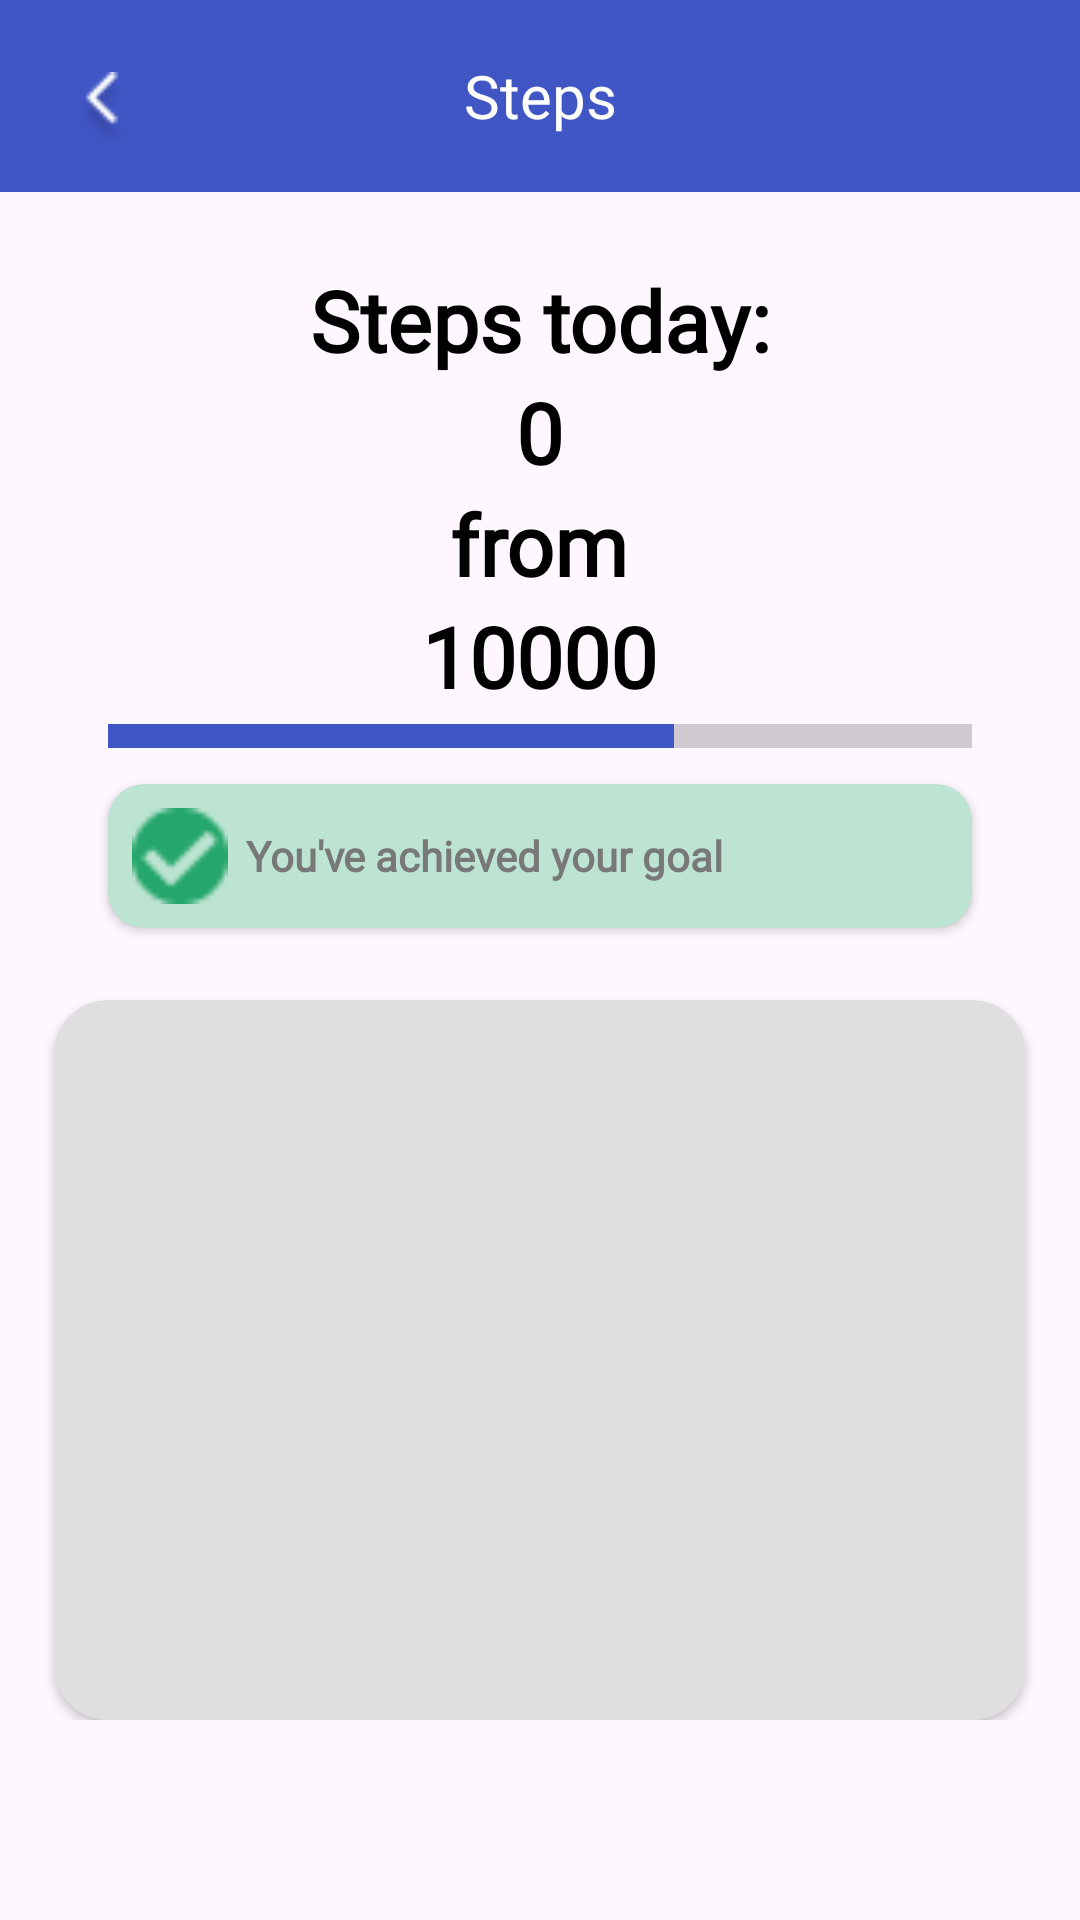

Named icons in this screenshot (1080px×1920px) and their centers, point (x, y):
checkmark: point (180, 856)
mobilehealth back: point (102, 98)
